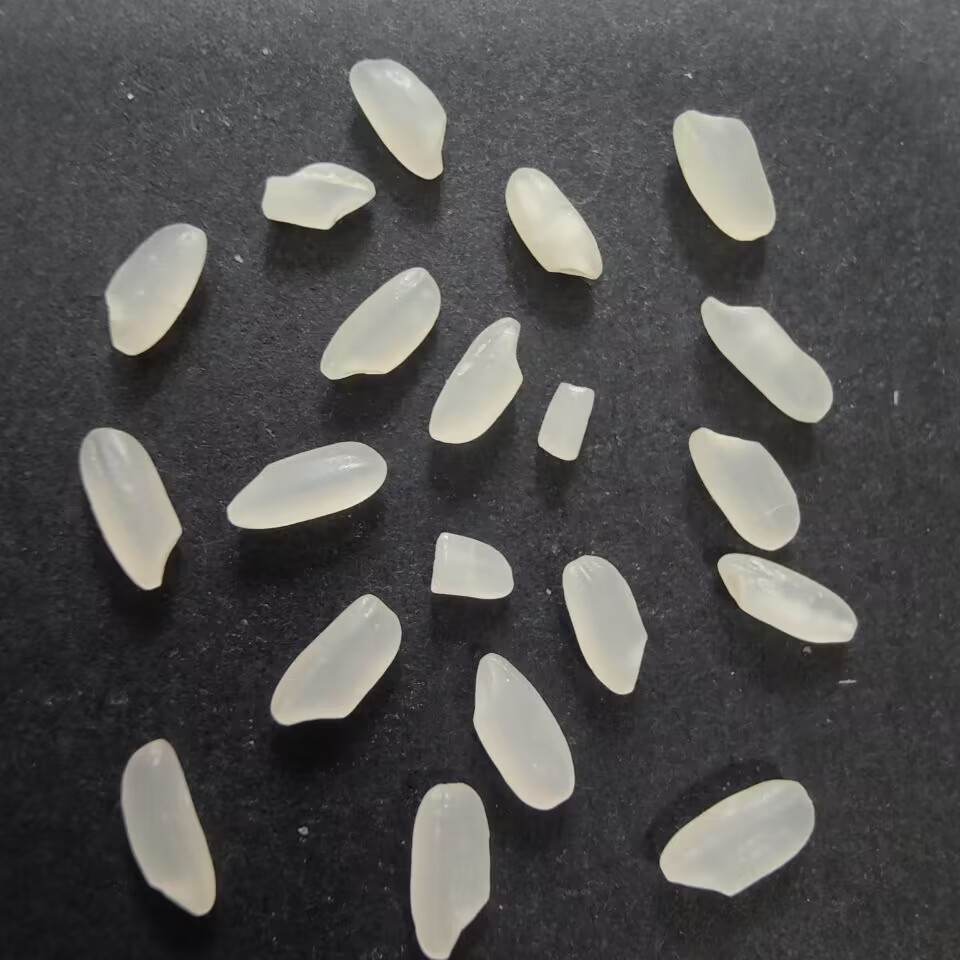broken: (255, 157, 379, 237), (425, 526, 517, 606), (532, 377, 600, 466)
rice: (72, 425, 187, 599), (653, 777, 817, 899), (265, 590, 405, 728), (696, 291, 836, 424), (115, 738, 217, 920), (469, 650, 578, 813), (315, 262, 446, 388), (223, 436, 389, 532), (407, 780, 494, 960), (685, 425, 805, 554), (711, 548, 862, 650), (102, 220, 211, 358), (670, 104, 778, 243), (343, 54, 451, 184), (558, 554, 650, 703), (423, 314, 526, 445), (501, 164, 606, 286)
